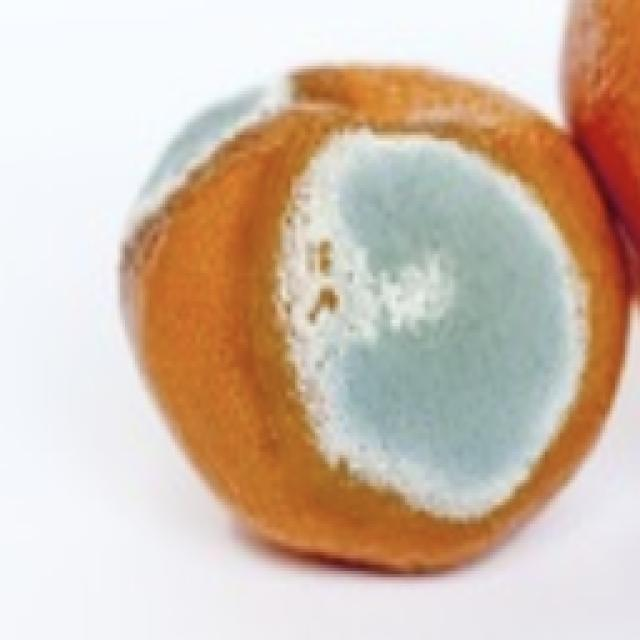sangat-busuk: (280, 132, 584, 516), (140, 88, 268, 204)
